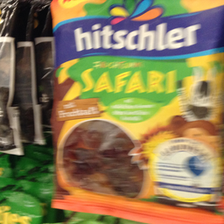candy: (49, 1, 223, 221)
